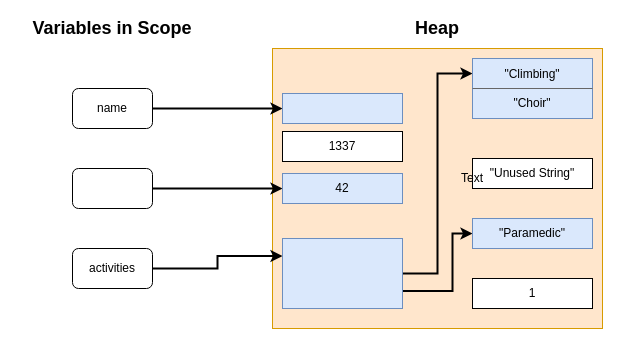
This 620x346 diagram has some shape labels left out. Each missing label, with the centre of its shape:
"John Doe": [342,108]
<type Activities> Hobbies Work: [342,273]
age: [112,188]
